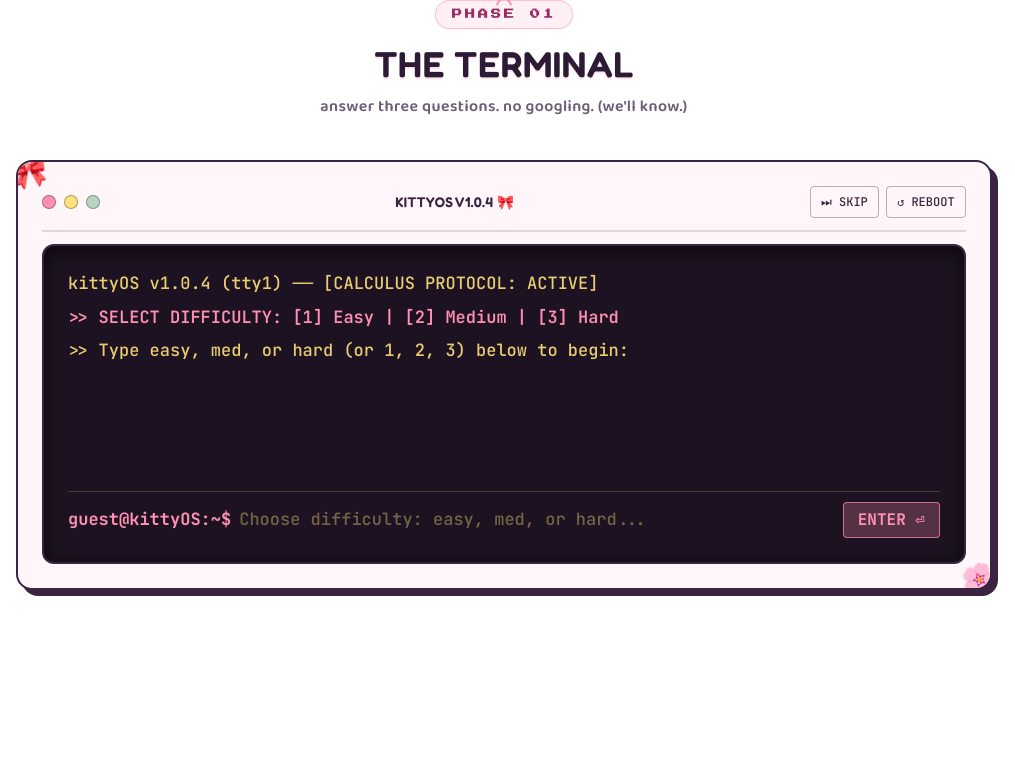
Test case: KittyOS Terminal Quiz Workflow › Q2: Option Selector & Reveal Flow › Q2 accepts 'hint' command
In the field named "kittyOS terminal command input": (537, 520) [239,507,835,533], type "easy"
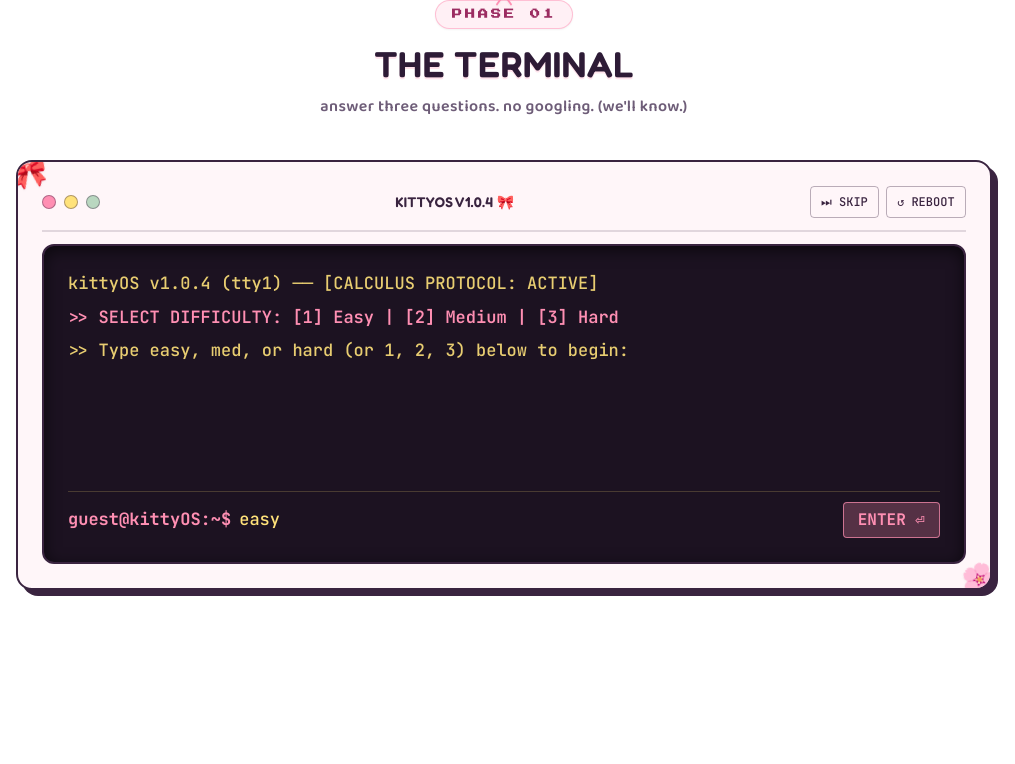
Submit the form named "kittyOS terminal command input", box [68,491,940,538]
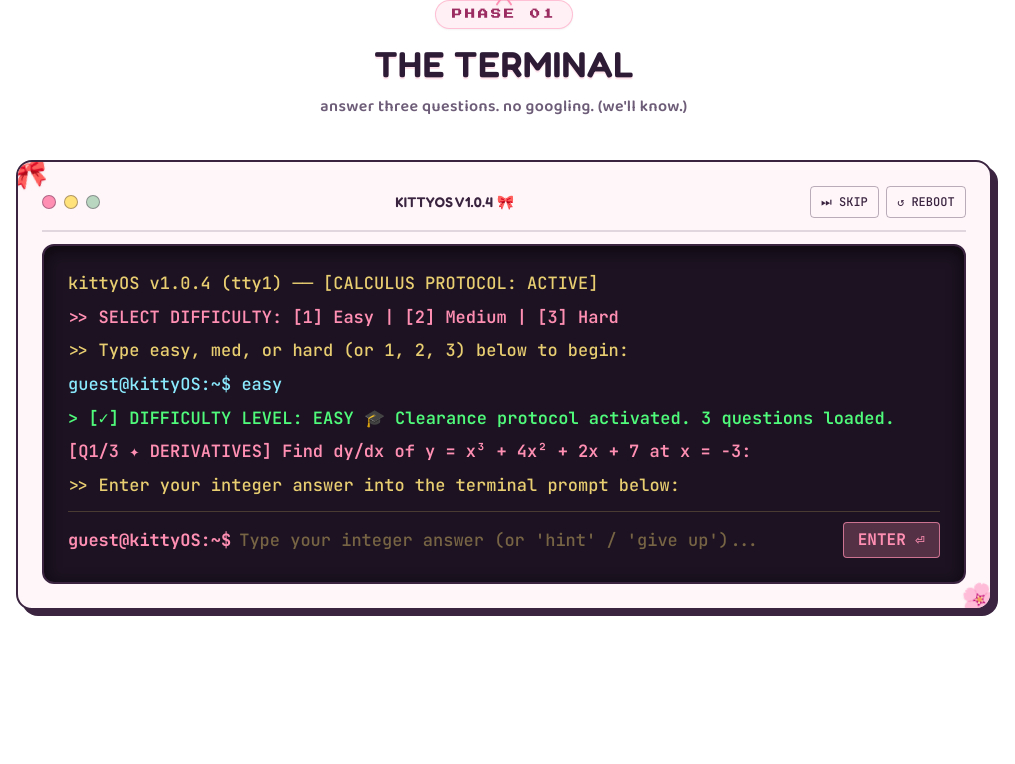
In the field named "kittyOS terminal command input": (537, 540) [239,528,835,553], type "give up"
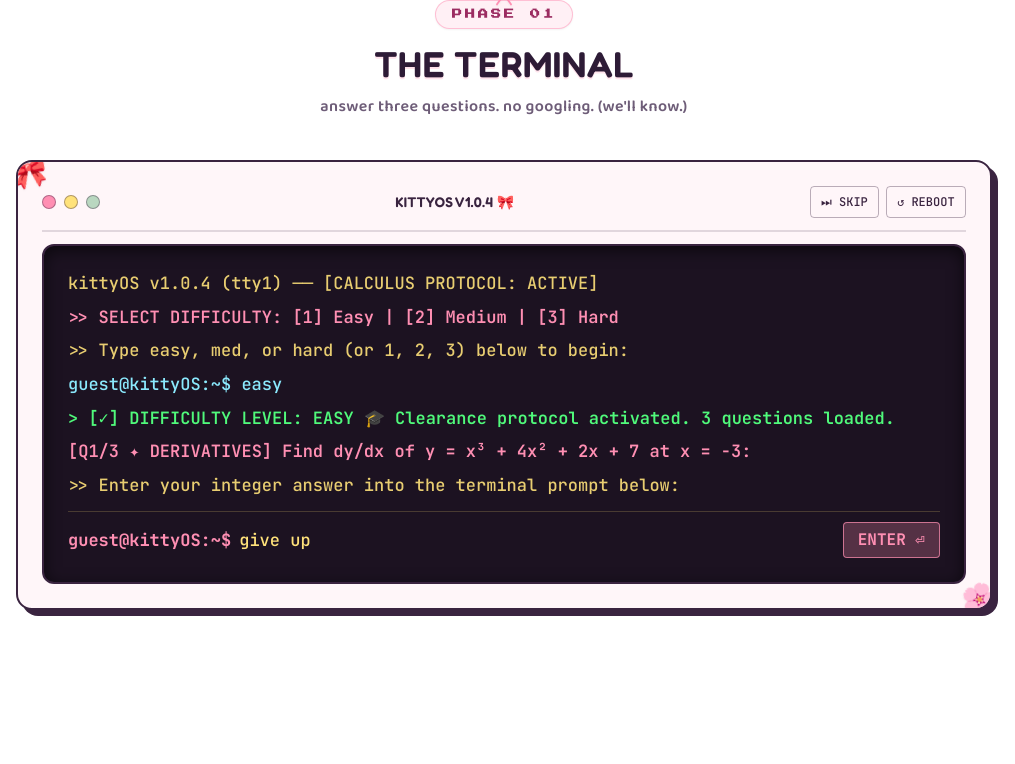
Submit the form named "kittyOS terminal command input", box [68,511,940,558]
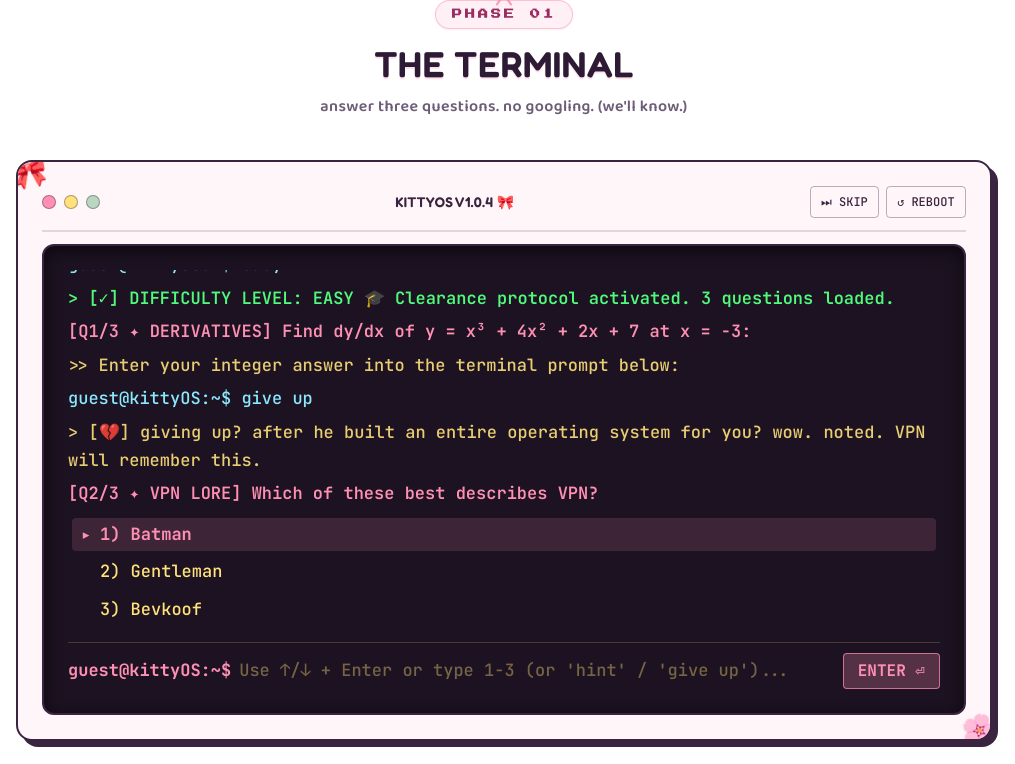
In the field named "kittyOS terminal command input": (537, 671) [239,658,835,684], type "hint"
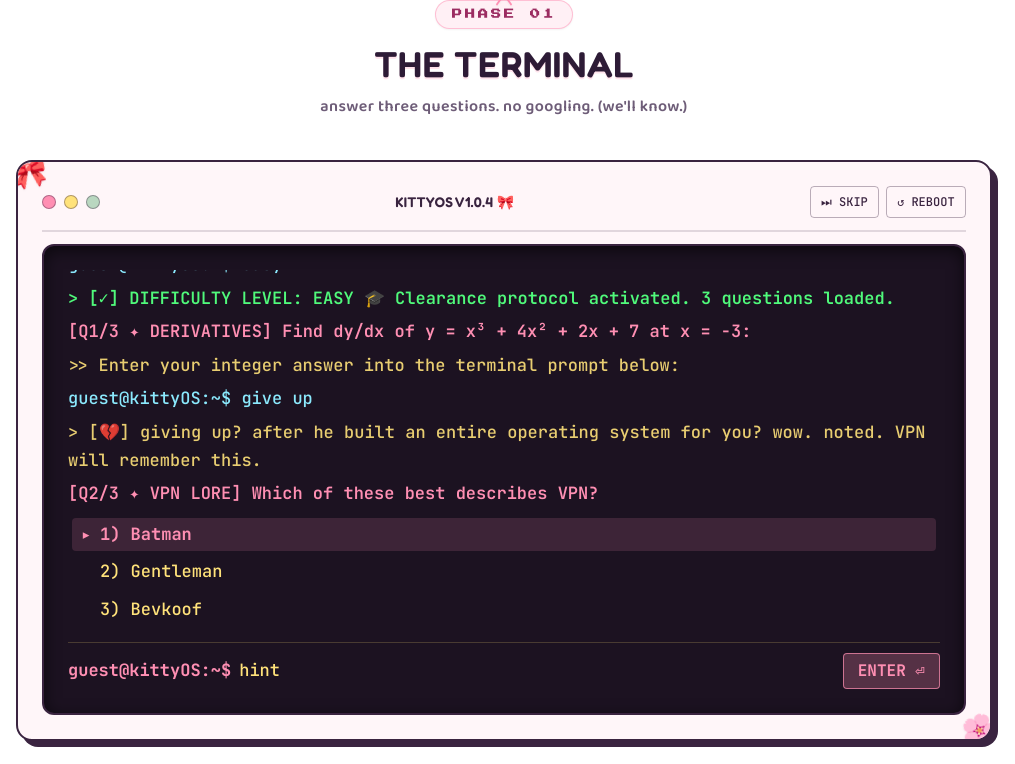
Submit the form named "kittyOS terminal command input", box [68,642,940,689]
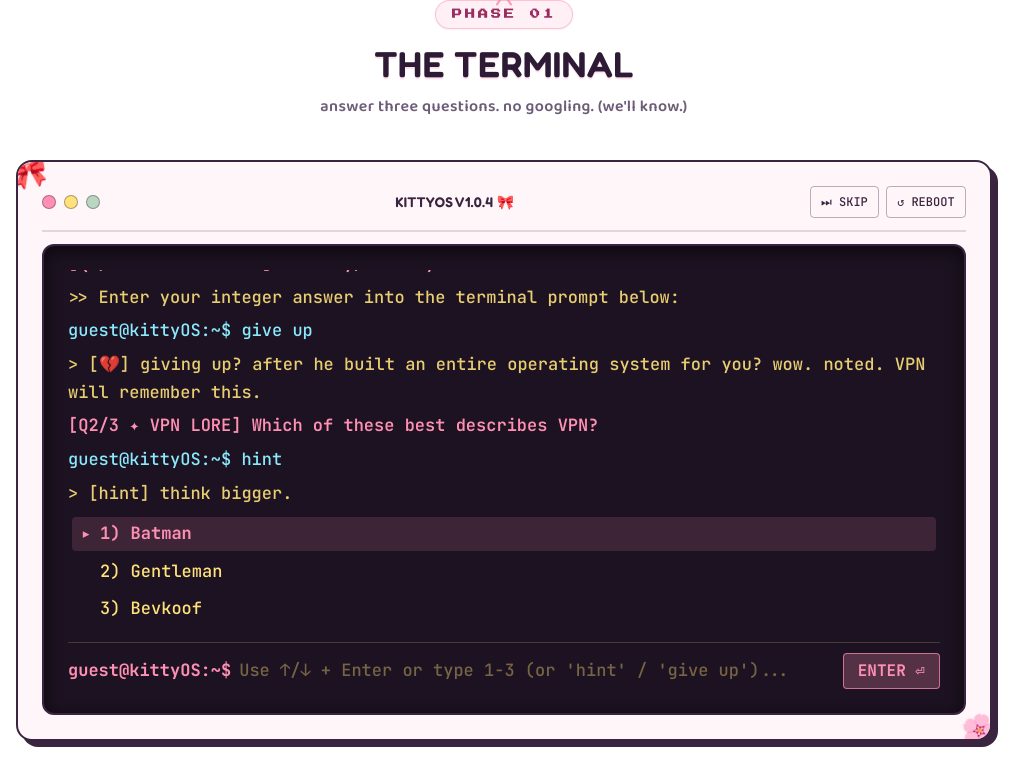
Check: the element with test id "terminal-logs-container" shows "> [hint] think bigger.", box [68,482,292,504]
